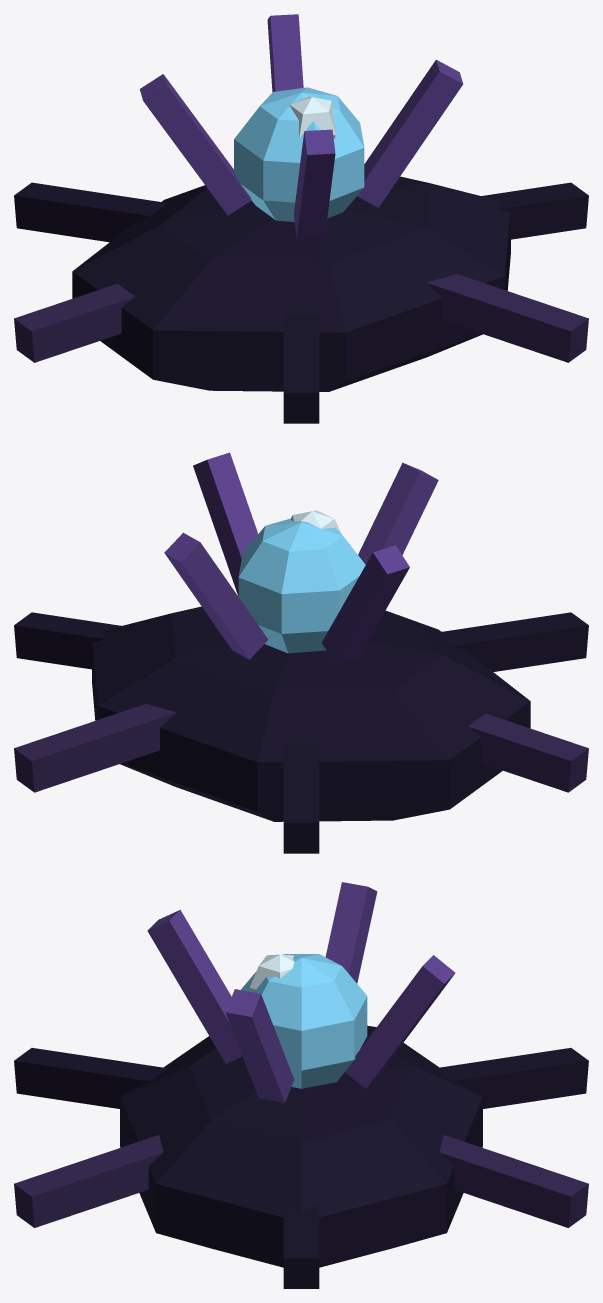
File: frost_thorn_root_open.glb
3 views of the same model, one above another, from view 1: azimuth 30°, elevation 25°; view 2: azimuth 150°, elevation 25°; view 3: azimuth 270°, elevation 25° (orthographic).
Visible parts, largest first — view 1: frost_thorn_root_open; view 2: frost_thorn_root_open; view 3: frost_thorn_root_open.
Boxes of the visible parts, x1,y1,x2,y2 form: frost_thorn_root_open: (14,14,588,423); frost_thorn_root_open: (14,452,588,853); frost_thorn_root_open: (14,882,588,1288).
Bounding box in the file's own units: 1.81 × 0.8893 × 1.62.
